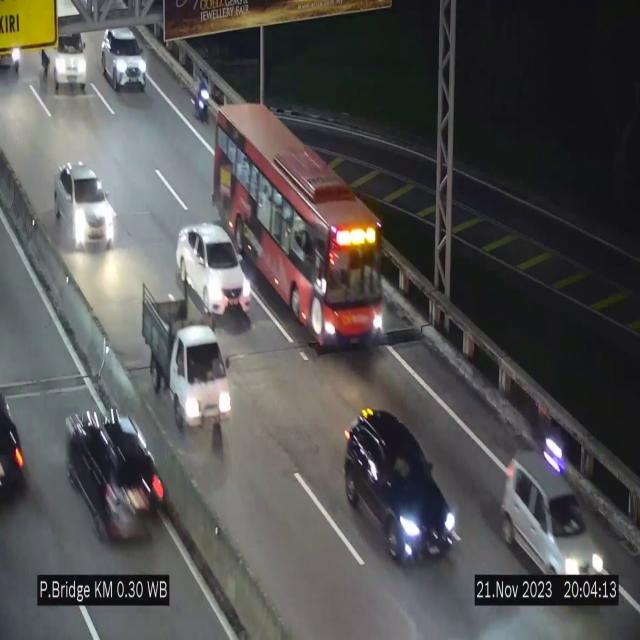Bus: (214, 103, 386, 349)
Car: (344, 408, 456, 560), (504, 456, 605, 575), (176, 221, 250, 319), (55, 158, 115, 252), (102, 28, 146, 89)
Motorcycle: (534, 402, 565, 482), (192, 66, 213, 129)
Truck: (143, 283, 231, 437)
